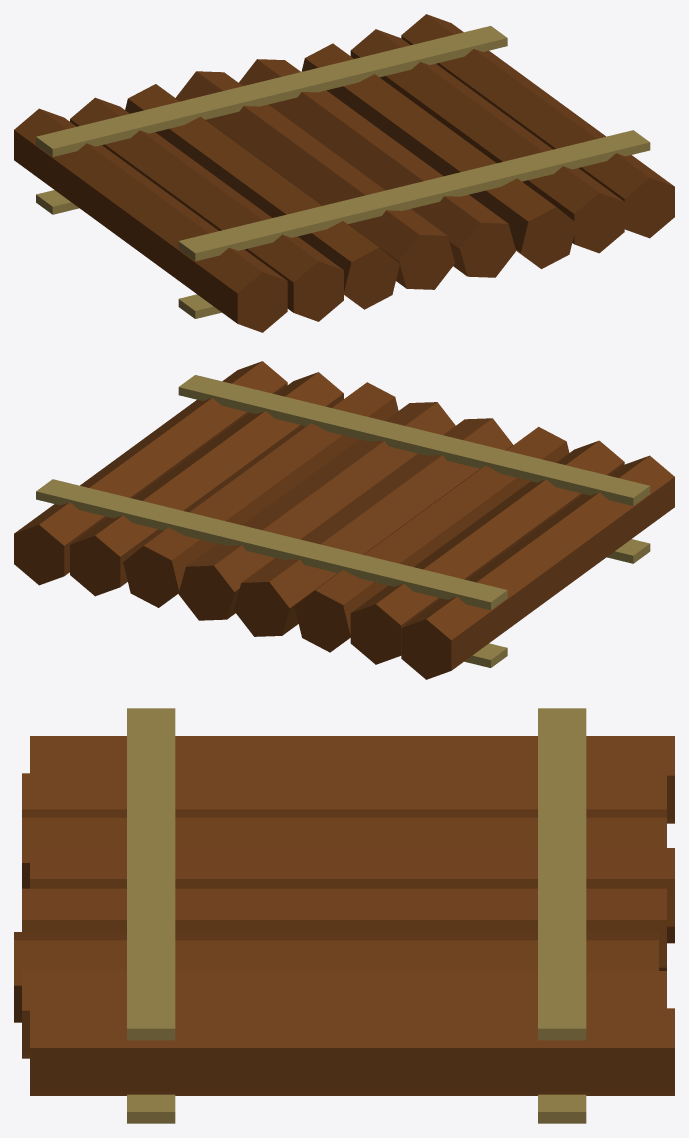
File: Wood Floor and Ceiling.fbx
3 views of the same model, one above another, from view 1: azimuth 30°, elevation 25°; view 2: azimuth 150°, elevation 25°; view 3: azimuth 270°, elevation 25° (orthographic). The views are drawn at different scales.
Visible parts, largest first — view 1: Build Floor/ Roof; view 2: Build Floor/ Roof; view 3: Build Floor/ Roof.
Boxes of the visible parts, x1,y1,x2,y2 form: Build Floor/ Roof: (14,14,674,332); Build Floor/ Roof: (14,361,674,679); Build Floor/ Roof: (14,708,674,1123).
Bounding box in the file's own units: 940 × 130 × 820.
